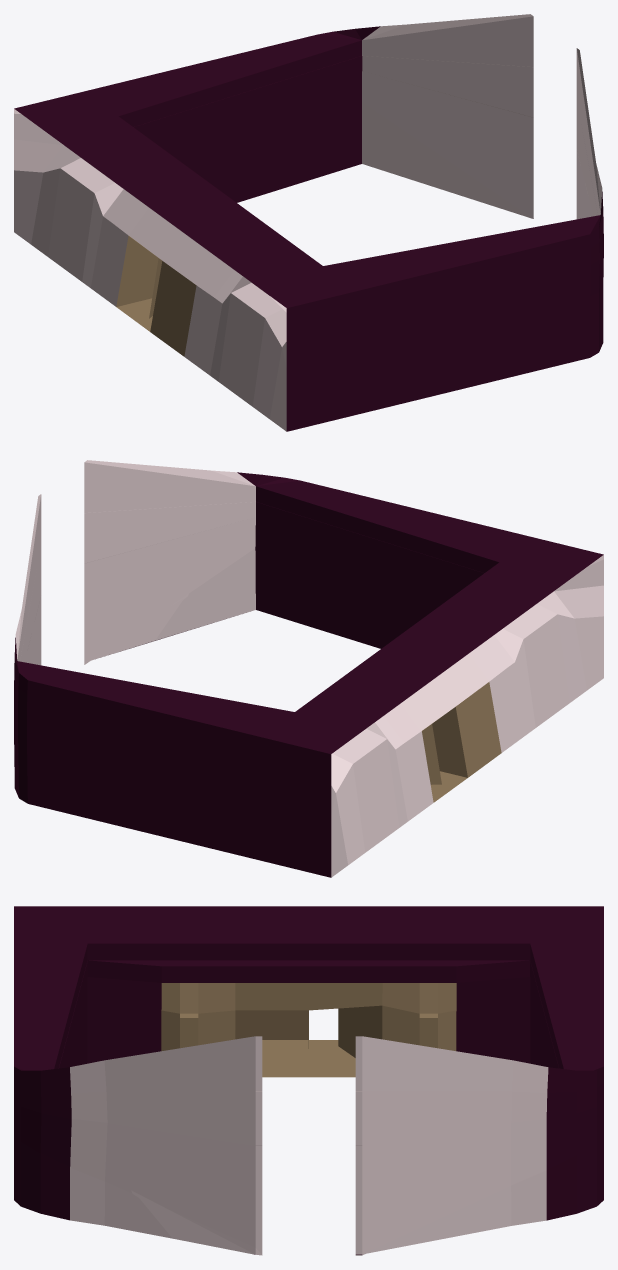
Rendered from jewleryisland.fbx.
The picture shows the model from 3 angles, top to bottom: view 1: azimuth 30°, elevation 25°; view 2: azimuth 150°, elevation 25°; view 3: azimuth 270°, elevation 25°; orthographic projection. The views are drawn at different scales.
Visible parts, largest first — view 1: Cube.001; view 2: Cube.001; view 3: Cube.001.
Boxes of the visible parts, <box> form: Cube.001: <box>14,14,603,431</box>; Cube.001: <box>14,460,603,877</box>; Cube.001: <box>14,906,603,1255</box>.
Bounding box in the file's own units: 686 × 328 × 800.
